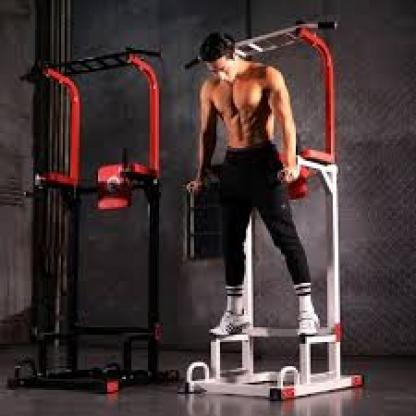chinning dipping: (178, 16, 365, 403), (7, 47, 176, 395)
